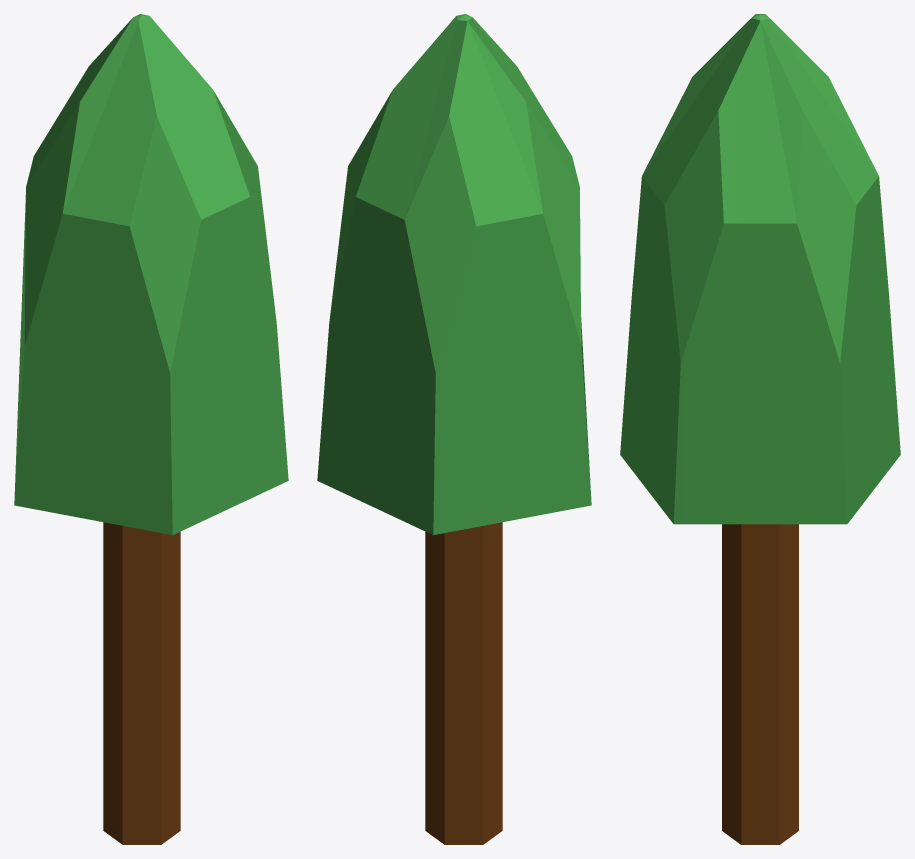
Rendered from Tree_15.fbx.
3 views of the same model, side by side, from view 1: azimuth 30°, elevation 25°; view 2: azimuth 150°, elevation 25°; view 3: azimuth 270°, elevation 25° (orthographic).
Parts seen in each view (by area): view 1: Tree_15; view 2: Tree_15; view 3: Tree_15.
Boxes of the visible parts, x1,y1,x2,y2 form: Tree_15: (14, 14, 288, 844); Tree_15: (317, 14, 591, 844); Tree_15: (620, 14, 900, 844).
Bounding box in the file's own units: 691 × 2332 × 727.
